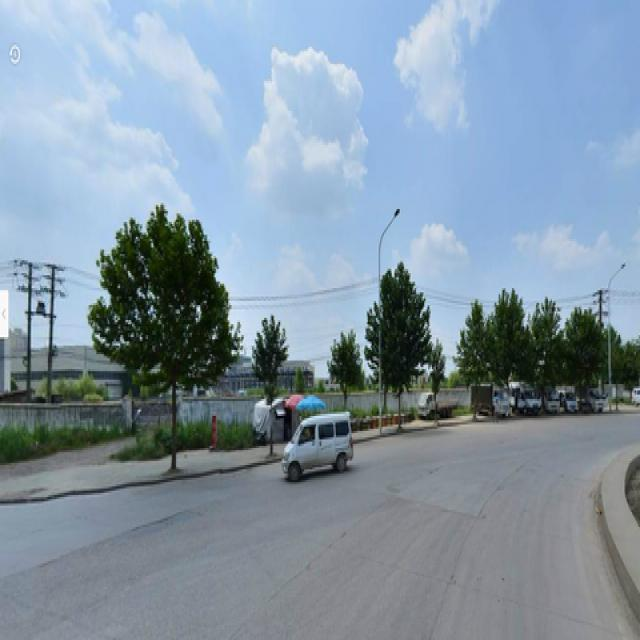meta: (120, 241, 205, 472), (380, 273, 424, 435)
